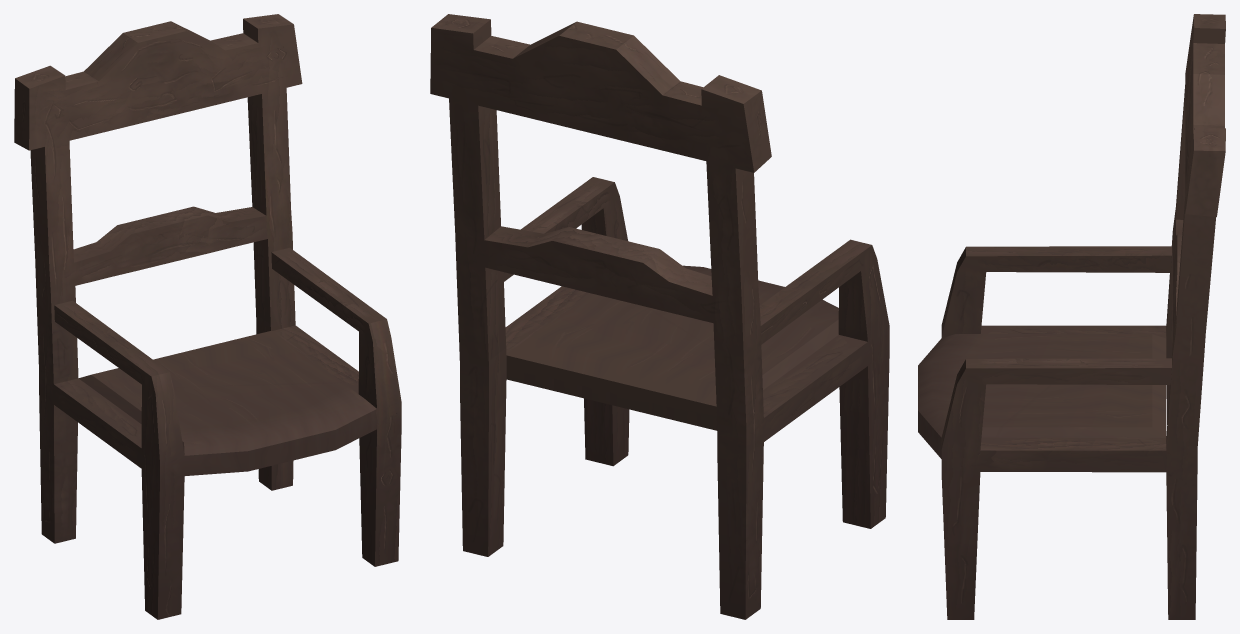
The model's file is Chair.fbx.
The picture shows the model from 3 angles, left to right: view 1: azimuth 30°, elevation 25°; view 2: azimuth 150°, elevation 25°; view 3: azimuth 270°, elevation 25°; orthographic projection. The views are drawn at different scales.
Parts seen in each view (by area): view 1: Chair_01; view 2: Chair_01; view 3: Chair_01.
Boxes of the visible parts, bbox=[...] form: Chair_01: bbox=[14, 14, 401, 619]; Chair_01: bbox=[430, 14, 889, 619]; Chair_01: bbox=[918, 14, 1225, 619].
Bounding box in the file's own units: 5.22 × 8.55 × 4.81.
